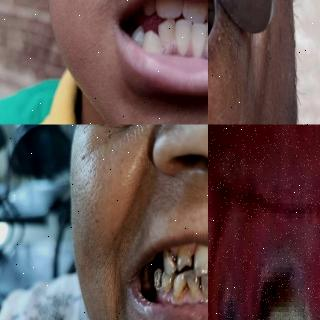cavities: (253, 258, 320, 319), (163, 249, 179, 269)
maligned: (190, 20, 207, 66), (156, 0, 185, 24), (157, 21, 178, 53), (186, 0, 208, 28), (144, 29, 160, 51), (143, 0, 155, 22), (204, 21, 208, 67), (203, 0, 208, 26)
stains: (161, 273, 174, 293), (176, 280, 189, 298), (196, 276, 204, 296), (208, 20, 212, 44)
